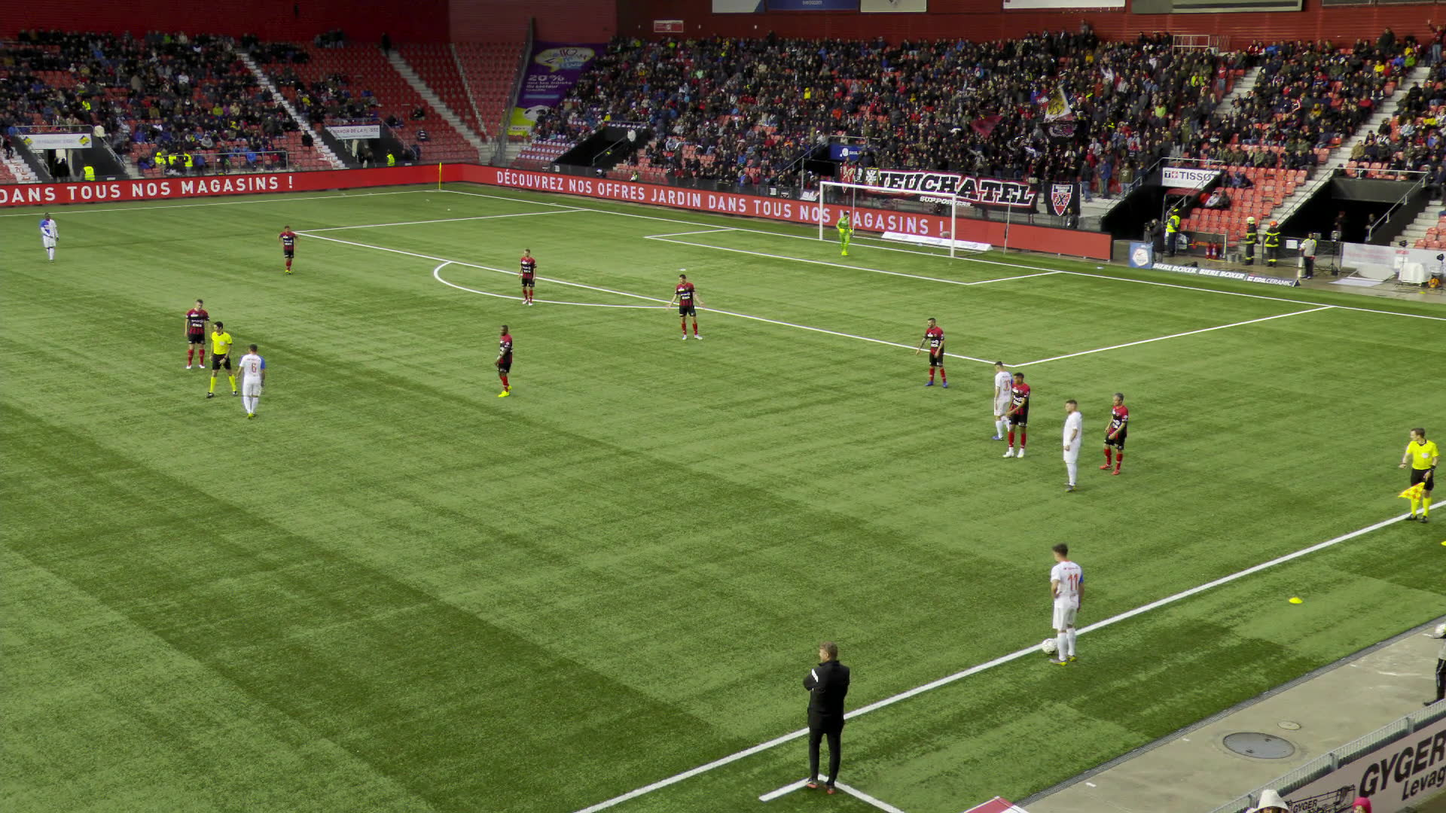ball: (1041, 638, 1055, 653)
player: (1048, 544, 1082, 666), (664, 274, 704, 340), (1000, 373, 1029, 459), (1097, 393, 1127, 475), (987, 362, 1017, 442), (235, 345, 266, 419), (917, 318, 948, 388), (183, 299, 209, 370), (1061, 400, 1081, 492), (494, 325, 514, 397), (276, 226, 297, 275), (517, 249, 535, 306), (38, 214, 57, 263), (834, 212, 851, 256)
referee: (1396, 428, 1436, 524), (205, 321, 236, 398)
